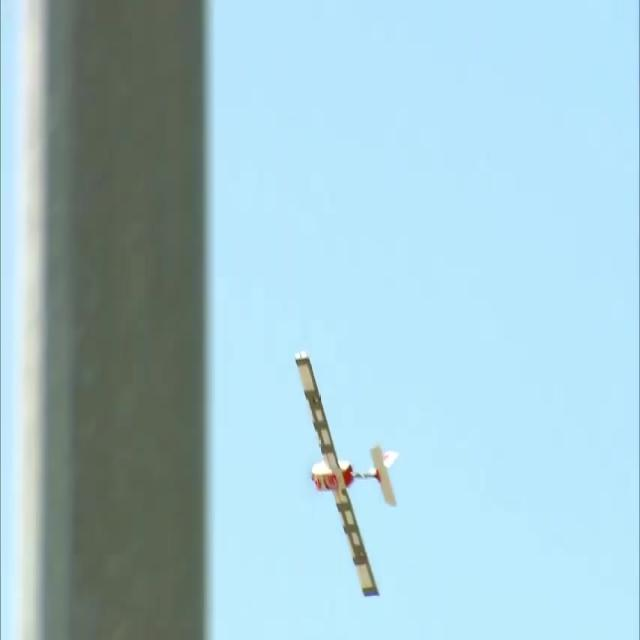iha: (326, 349, 366, 596)
